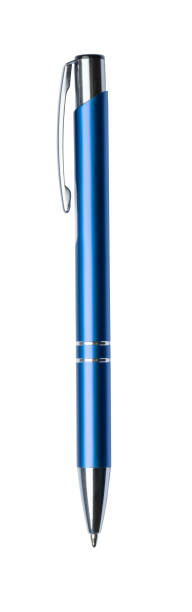pen: (52, 51, 137, 548)
